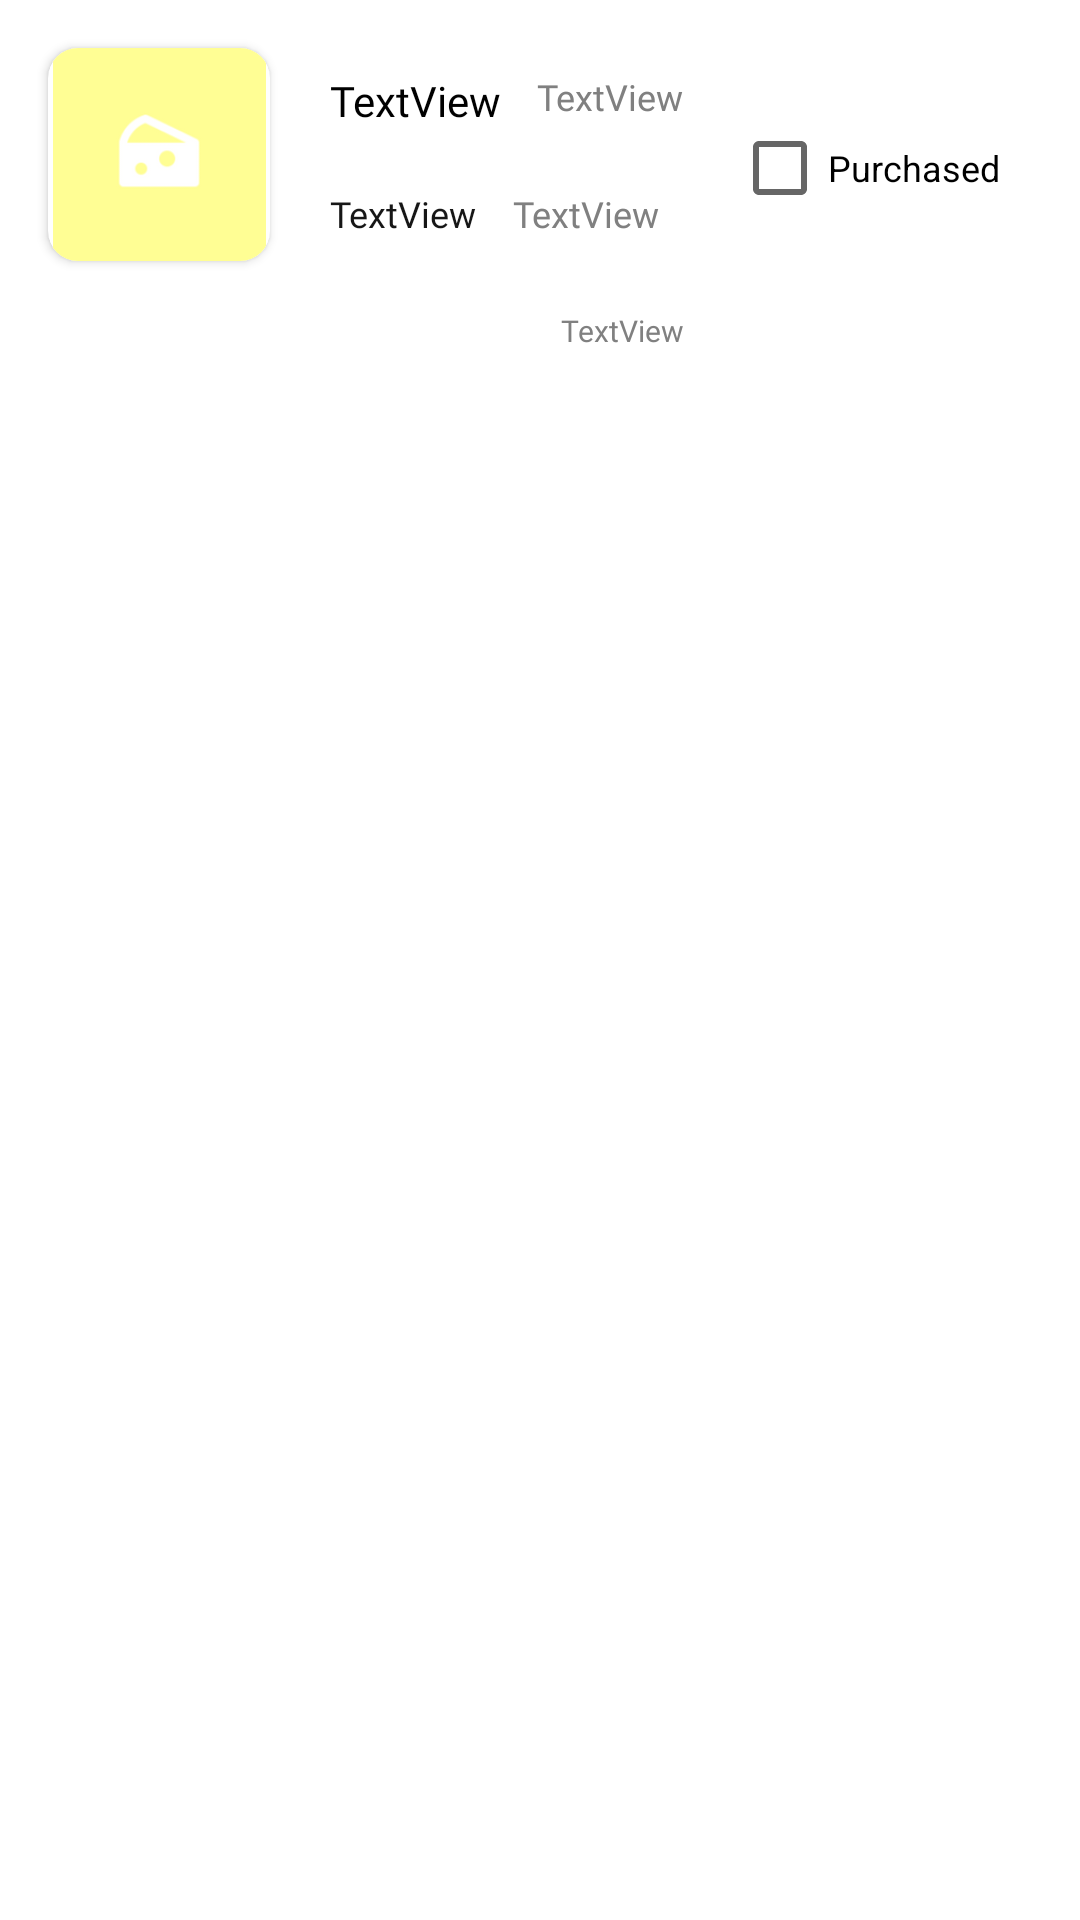

Named icons in this screenshot (1080×1920) and their centers, (x=x, y=y):
dairy: (x=157, y=154)
